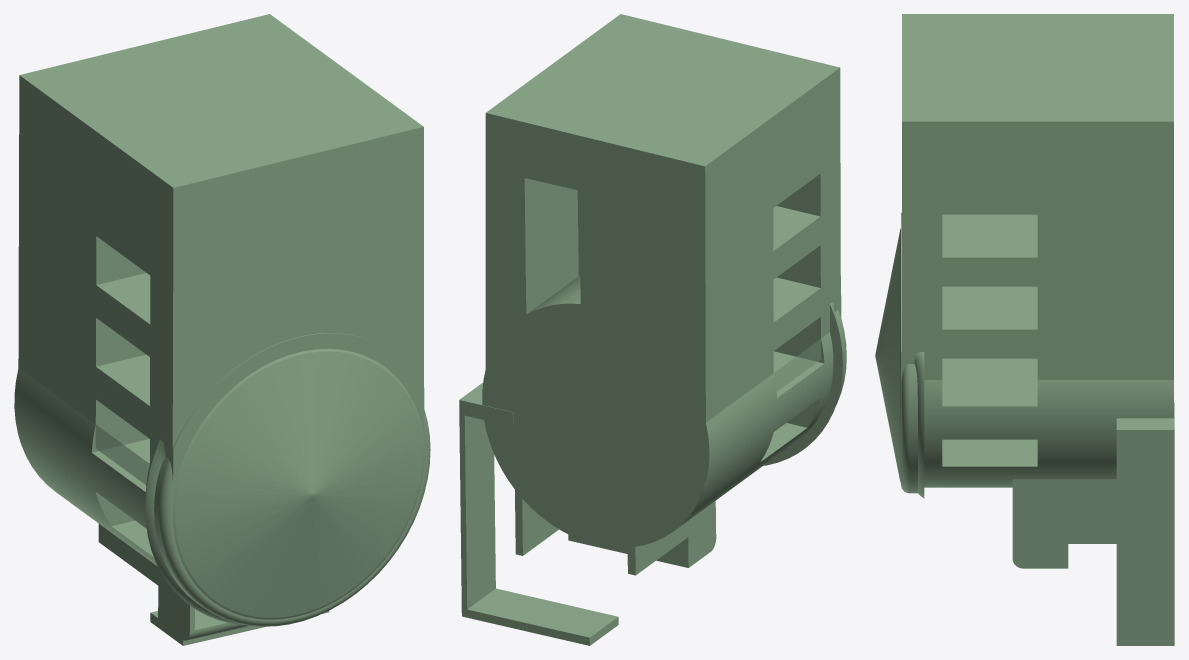
The model's file is kinema piechorowska.obj.
The picture shows the model from 3 angles, left to right: view 1: azimuth 30°, elevation 25°; view 2: azimuth 150°, elevation 25°; view 3: azimuth 270°, elevation 25°; orthographic projection. The views are drawn at different scales.
Visible parts, largest first — view 1: kinema piechorowska\Ciało stałe, kinema piechorowska\Powierzchnia (2); view 2: kinema piechorowska\Ciało stałe, kinema piechorowska\Powierzchnia (2); view 3: kinema piechorowska\Ciało stałe.
Boxes of the visible parts, bbox=[...] form: kinema piechorowska\Ciało stałe: bbox=[14, 14, 430, 645]; kinema piechorowska\Powierzchnia (2): bbox=[95, 425, 149, 484]; kinema piechorowska\Ciało stałe: bbox=[459, 14, 846, 645]; kinema piechorowska\Powierzchnia (2): bbox=[774, 339, 820, 391]; kinema piechorowska\Ciało stałe: bbox=[875, 14, 1174, 645].
Bounding box in the file's own units: 18.99 × 35.61 × 18.83.
